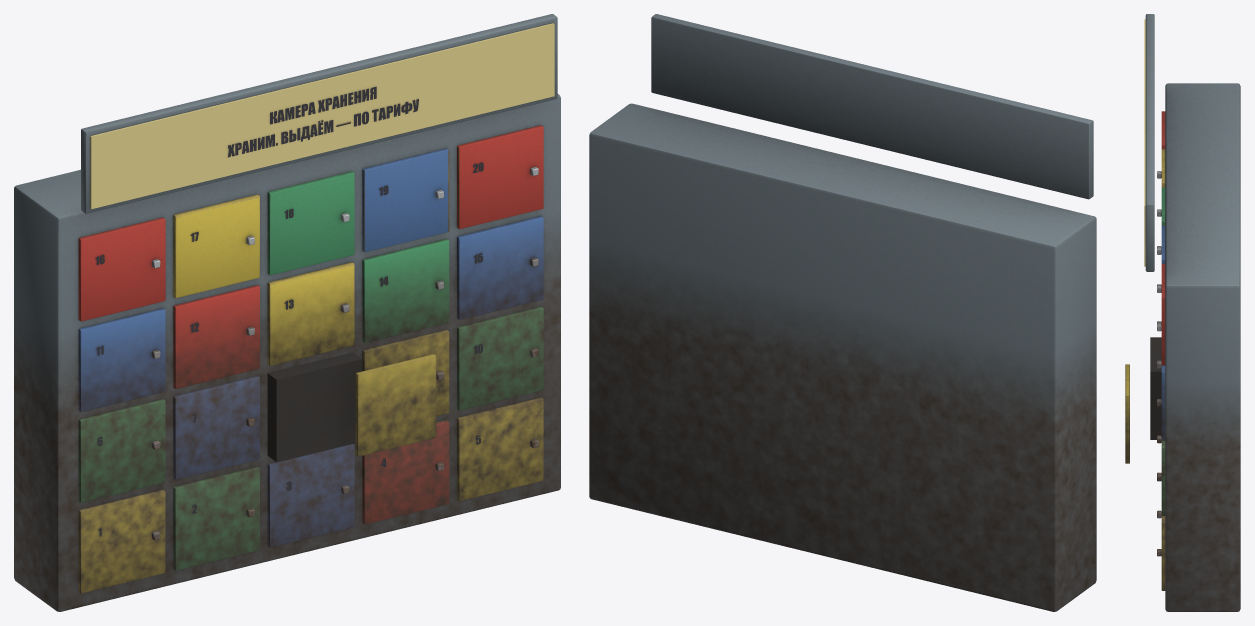
The model's file is g67_pz_storage.glb.
3 views of the same model, side by side, from view 1: azimuth 30°, elevation 25°; view 2: azimuth 150°, elevation 25°; view 3: azimuth 270°, elevation 25° (orthographic). The views are drawn at different scales.
Parts seen in each view (by area): view 1: g67_pz_storage, door_open; view 2: g67_pz_storage; view 3: g67_pz_storage, door_open.
Boxes of the visible parts, box(x1,y1,x2,y2) form: g67_pz_storage: box(14, 14, 560, 611); door_open: box(355, 354, 436, 456); g67_pz_storage: box(589, 14, 1096, 611); g67_pz_storage: box(1144, 14, 1240, 611); door_open: box(1125, 364, 1129, 463).
Bounding box in the file's own units: 3.2 × 2.95 × 0.765.
1 material, 1 textured.
